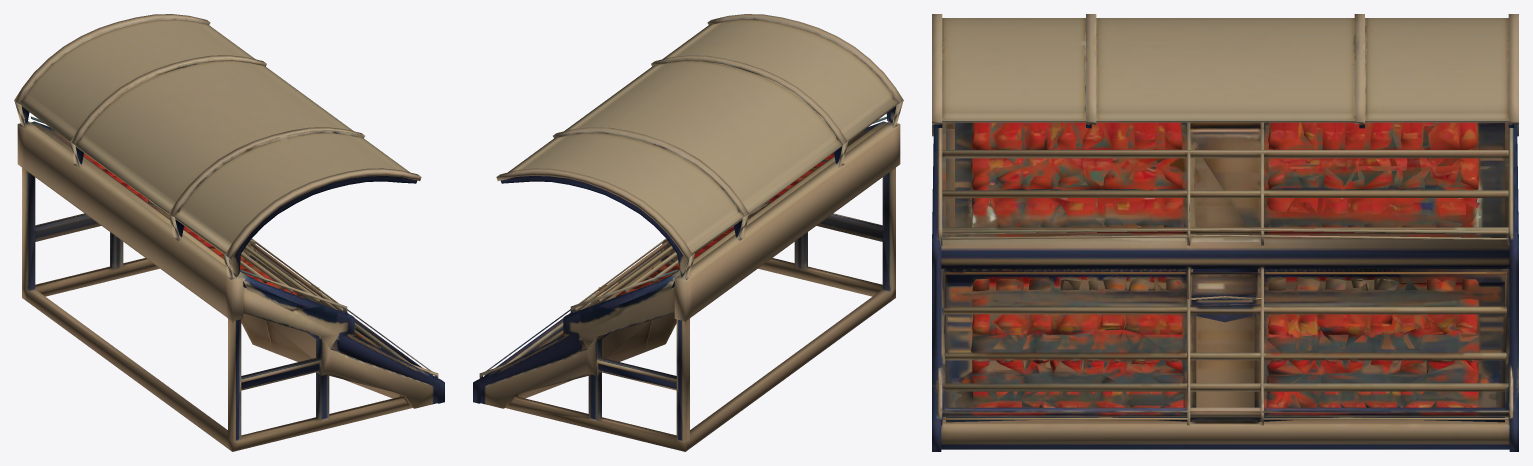
The model's file is straight-stand.glb.
3 renders of one model, left to right at view 1: azimuth 30°, elevation 25°; view 2: azimuth 150°, elevation 25°; view 3: azimuth 270°, elevation 25°, orthographic. The views are drawn at different scales.
Visible parts, largest first — view 1: Straight empty grandstand; view 2: Straight empty grandstand; view 3: Straight empty grandstand.
Boxes of the visible parts, <box> form: Straight empty grandstand: <box>14,14,444,451</box>; Straight empty grandstand: <box>473,14,903,451</box>; Straight empty grandstand: <box>932,14,1518,451</box>.
Size of the model in its own units: 0.5801 by 0.6426 by 0.998.
1 material, 1 textured.
